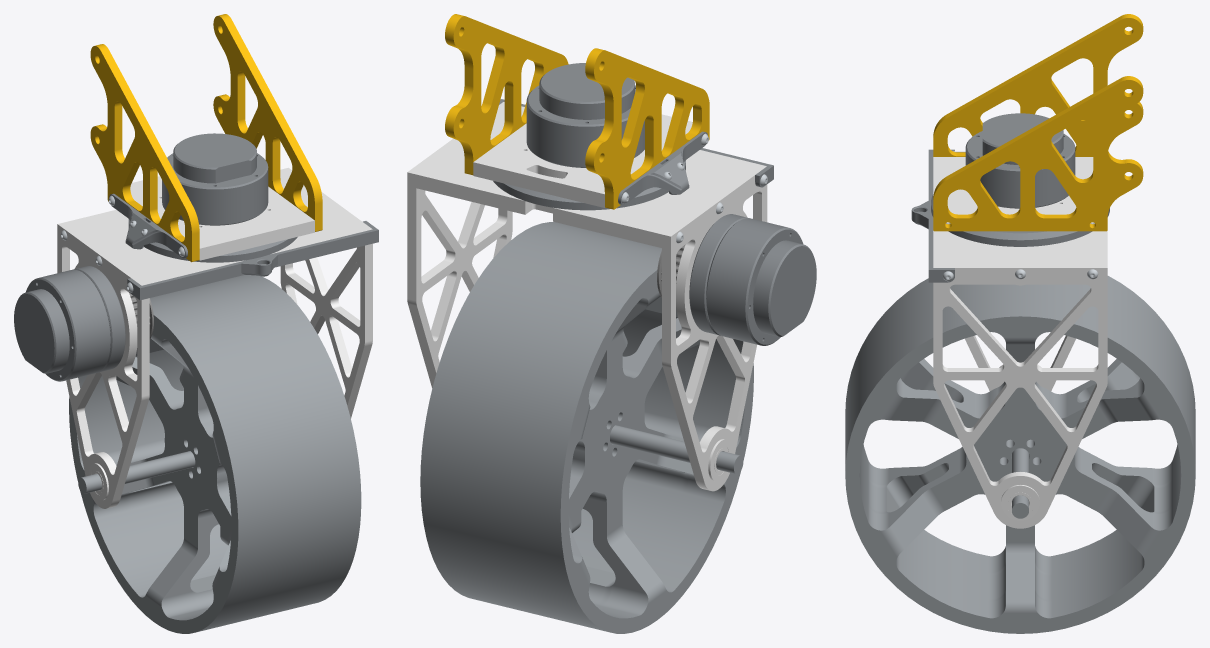
File: Wheel2-High-Quality.glb
3 renders of one model, left to right at view 1: azimuth 30°, elevation 25°; view 2: azimuth 150°, elevation 25°; view 3: azimuth 270°, elevation 25°, orthographic. The views are drawn at different scales.
Parts seen in each view (by area): view 1: spokes, Motor Fork, No Suspension Suspension Mount.001, Propulsion Motor, No Suspension Suspension Mount, Steering Motor, Left Fork, Bottom Steering Plate, Top Steering Plate, Magnet Bracket Bottom, Motor Spacer, Shaft (+3 smaller); view 2: spokes, Motor Fork, Propulsion Motor, No Suspension Suspension Mount.001, Bottom Steering Plate, No Suspension Suspension Mount, Left Fork, Steering Motor, Top Steering Plate, Motor Spacer, Shaft, Slip Ring Top (+2 smaller); view 3: spokes, Left Fork, No Suspension Suspension Mount, No Suspension Suspension Mount.001, Steering Motor, Bottom Steering Plate, Top Steering Plate, Slip Ring Top, Magnet Bracket Bottom, Motor Fork, Shaft, mesh362_mesh.
Boxes of the visible parts, x1=… form: spokes: x1=69, y1=275, x2=361, y2=633; Motor Fork: x1=57, y1=222, x2=149, y2=508; No Suspension Suspension Mount.001: x1=90, y1=44, x2=199, y2=262; Propulsion Motor: x1=14, y1=269, x2=110, y2=381; No Suspension Suspension Mount: x1=213, y1=14, x2=322, y2=231; Steering Motor: x1=162, y1=133, x2=268, y2=225; Left Fork: x1=280, y1=167, x2=372, y2=418; Bottom Steering Plate: x1=65, y1=169, x2=364, y2=283; Top Steering Plate: x1=130, y1=176, x2=314, y2=260; Magnet Bracket Bottom: x1=127, y1=221, x2=378, y2=300; Motor Spacer: x1=73, y1=266, x2=125, y2=372; Shaft: x1=78, y1=451, x2=195, y2=493; spokes: x1=420, y1=222, x2=753, y2=633; Motor Fork: x1=662, y1=164, x2=767, y2=491; Propulsion Motor: x1=706, y1=218, x2=816, y2=345; No Suspension Suspension Mount.001: x1=585, y1=48, x2=709, y2=209; Bottom Steering Plate: x1=416, y1=106, x2=757, y2=247; No Suspension Suspension Mount: x1=445, y1=14, x2=568, y2=175; Left Fork: x1=407, y1=102, x2=512, y2=387; Steering Motor: x1=526, y1=63, x2=644, y2=167; Top Steering Plate: x1=473, y1=114, x2=692, y2=207; Motor Spacer: x1=689, y1=214, x2=749, y2=335; Shaft: x1=610, y1=425, x2=743, y2=474; Slip Ring Top: x1=493, y1=160, x2=685, y2=210; spokes: x1=845, y1=276, x2=1195, y2=633; Left Fork: x1=933, y1=264, x2=1107, y2=528; No Suspension Suspension Mount: x1=933, y1=76, x2=1143, y2=231; No Suspension Suspension Mount.001: x1=933, y1=14, x2=1143, y2=156; Steering Motor: x1=965, y1=113, x2=1075, y2=208; Bottom Steering Plate: x1=933, y1=231, x2=1107, y2=263; Top Steering Plate: x1=933, y1=157, x2=1094, y2=224; Slip Ring Top: x1=931, y1=194, x2=1109, y2=246; Magnet Bracket Bottom: x1=911, y1=149, x2=954, y2=282; Motor Fork: x1=953, y1=151, x2=1075, y2=391; Shaft: x1=1012, y1=448, x2=1028, y2=518; mesh362_mesh: x1=1001, y1=485, x2=1039, y2=520.
Size of the model in its own units: 0.2587 by 0.4247 by 0.2426.
